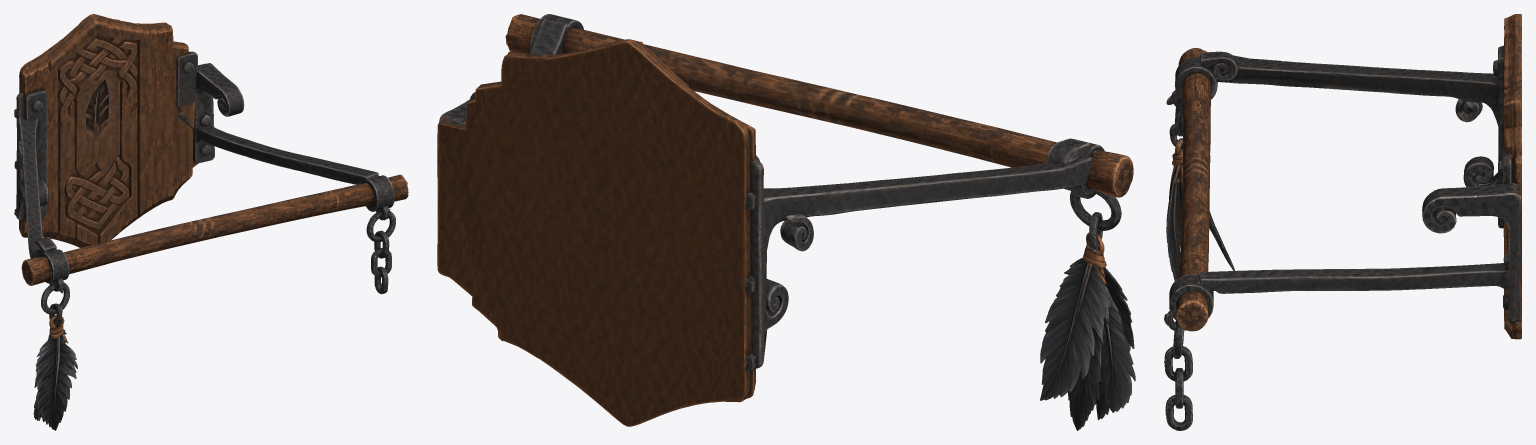
File: HallPerch.fbx
3 views of the same model, side by side, from view 1: azimuth 30°, elevation 25°; view 2: azimuth 150°, elevation 25°; view 3: azimuth 270°, elevation 25° (orthographic). The views are drawn at different scales.
Visible parts, largest first — view 1: output_unwrapped; view 2: output_unwrapped; view 3: output_unwrapped.
Part boxes in pixels (left/top/right/bottom): output_unwrapped: left=14, top=14, right=408, bottom=430; output_unwrapped: left=437, top=14, right=1135, bottom=430; output_unwrapped: left=1164, top=14, right=1521, bottom=430.
Bounding box in the file's own units: 190 × 139 × 116.
1 material, 1 textured.
